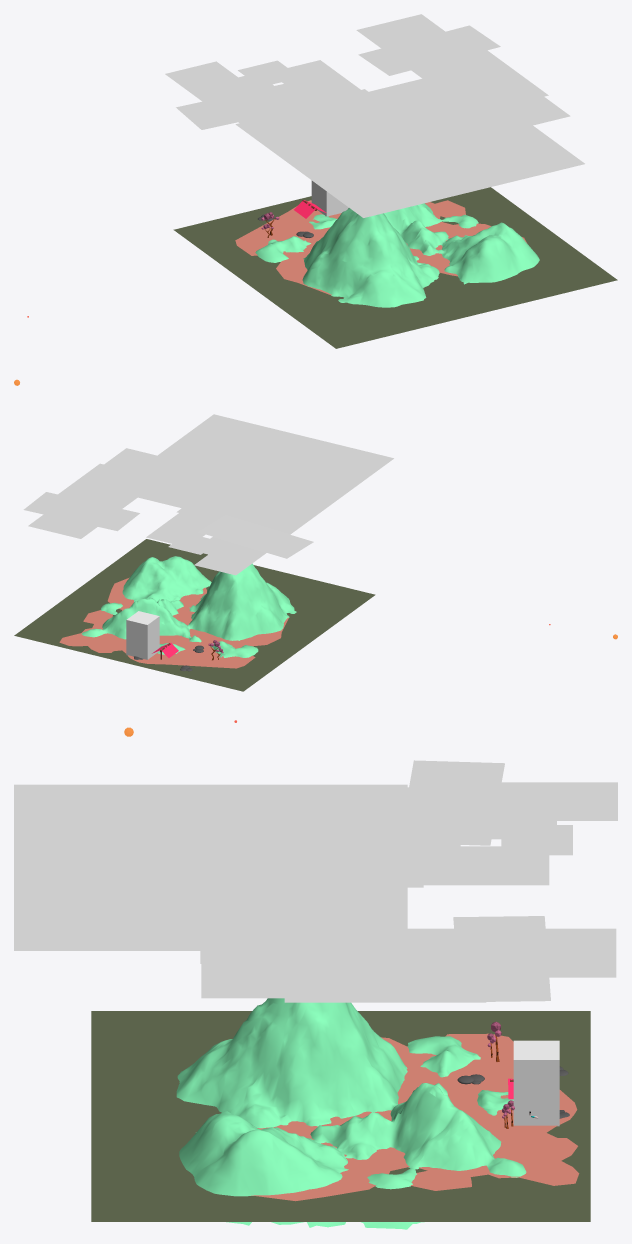
The model's file is hut.glb.
3 views of the same model, one above another, from view 1: azimuth 30°, elevation 25°; view 2: azimuth 150°, elevation 25°; view 3: azimuth 270°, elevation 25° (orthographic). The views are drawn at different scales.
Parts seen in each view (by area): view 1: Plane.001, land, Landscape.002, Plane.015, Plane, Plane.013, Plane.004, Plane.014, Plane.018, Plane.006, Plane.012, Plane.010 (+1 smaller); view 2: Plane.001, land, Landscape.002, Plane, Plane.015, Plane.013, Plane.004, Smoke Domain, Plane.014, Plane.018, Plane.012, Plane.006 (+1 smaller); view 3: Plane.001, land, Landscape.002, Plane, Plane.015, Plane.013, Plane.004, Plane.006, Plane.018, Plane.014, Smoke Domain, Plane.012 (+4 smaller).
Boxes of the visible parts, bbox=[...] form: Plane.001: bbox=[235, 70, 584, 217]; land: bbox=[173, 187, 617, 348]; Landscape.002: bbox=[255, 203, 539, 307]; Plane.015: bbox=[356, 14, 511, 87]; Plane: bbox=[235, 200, 527, 295]; Plane.013: bbox=[176, 81, 319, 129]; Plane.004: bbox=[238, 96, 349, 144]; Plane.014: bbox=[165, 61, 254, 101]; Plane.018: bbox=[282, 60, 360, 103]; Plane.006: bbox=[498, 68, 570, 125]; Plane.012: bbox=[358, 25, 500, 75]; Plane.010: bbox=[238, 60, 300, 87]; Plane.001: bbox=[110, 414, 393, 534]; land: bbox=[14, 539, 375, 691]; Landscape.002: bbox=[82, 556, 296, 657]; Plane: bbox=[59, 577, 288, 668]; Plane.015: bbox=[28, 472, 137, 538]; Plane.013: bbox=[199, 515, 313, 558]; Plane.004: bbox=[216, 500, 310, 533]; Smoke Domain: bbox=[126, 611, 159, 659]; Plane.014: bbox=[194, 541, 266, 575]; Plane.018: bbox=[146, 513, 220, 543]; Plane.012: bbox=[23, 492, 139, 531]; Plane.006: bbox=[73, 448, 156, 488]; Plane.001: bbox=[14, 784, 407, 950]; land: bbox=[91, 1011, 590, 1221]; Landscape.002: bbox=[176, 998, 526, 1229]; Plane: bbox=[251, 1033, 579, 1201]; Plane.015: bbox=[338, 928, 616, 977]; Plane.013: bbox=[399, 760, 504, 845]; Plane.004: bbox=[317, 787, 460, 847]; Plane.006: bbox=[201, 964, 402, 998]; Plane.018: bbox=[407, 846, 549, 885]; Plane.014: bbox=[495, 782, 617, 820]; Smoke Domain: bbox=[513, 1040, 559, 1126]; Plane.012: bbox=[453, 916, 550, 1002].
Bounding box in the file's own units: 54.86 × 14.9 × 31.47.
